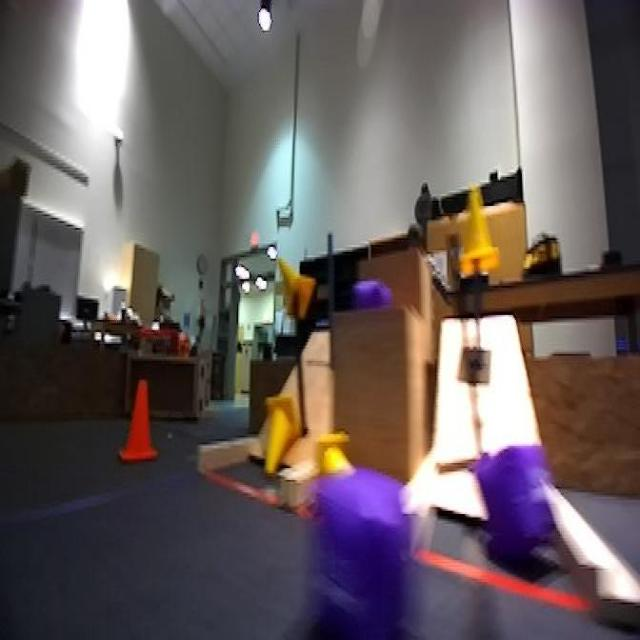frc_cone: (453, 179, 500, 281), (259, 383, 301, 482), (274, 250, 317, 318), (316, 434, 356, 472)
frc_cube: (308, 461, 430, 640), (482, 439, 555, 562), (352, 279, 401, 312)
